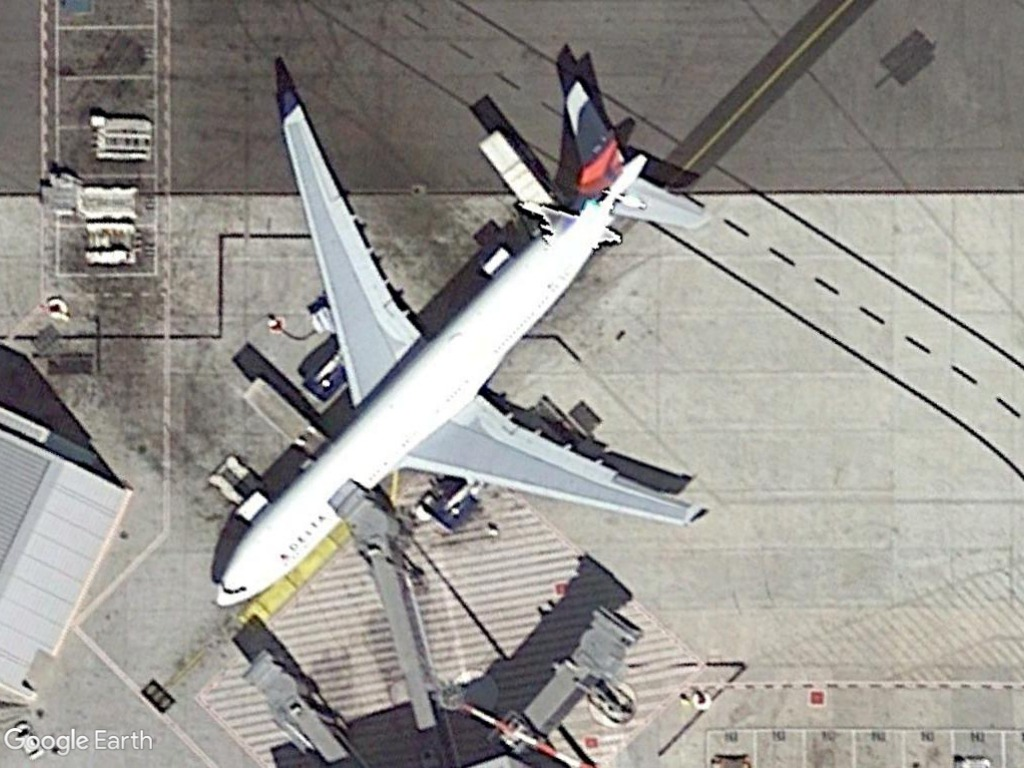airliner: (180, 72, 716, 618)
